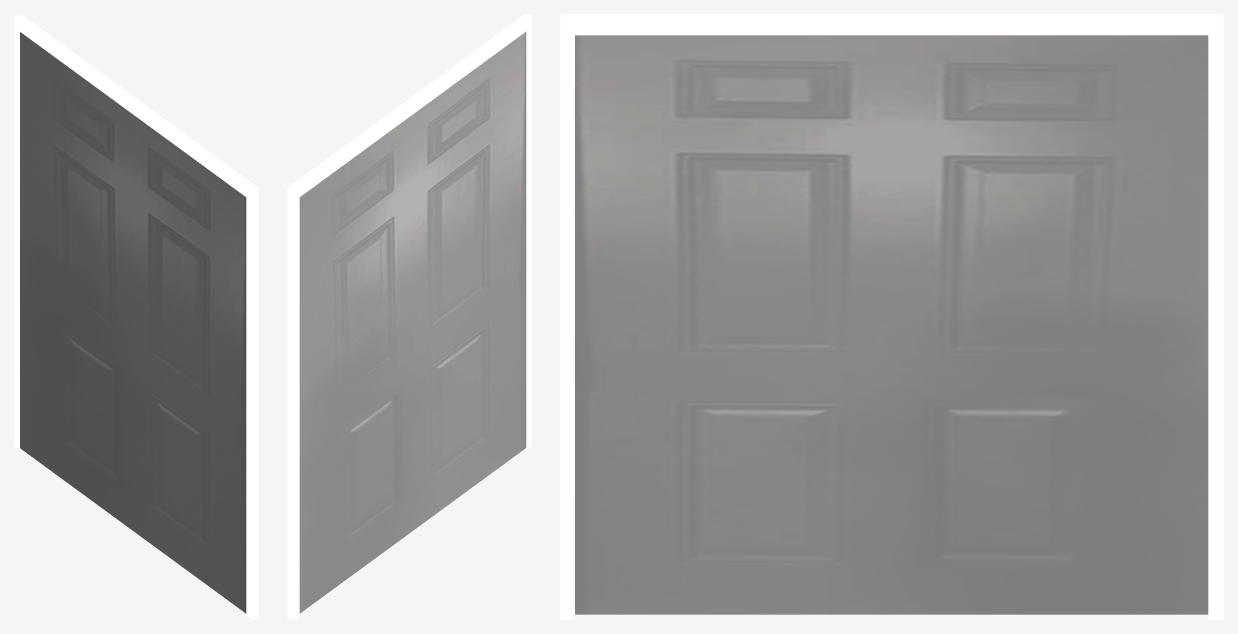
The model's file is Asoliddoor1.1a32aa59.gltf.
The picture shows the model from 3 angles, left to right: view 1: azimuth 30°, elevation 25°; view 2: azimuth 150°, elevation 25°; view 3: azimuth 270°, elevation 25°; orthographic projection. The views are drawn at different scales.
Parts seen in each view (by area): view 1: Plane, Cube; view 2: Plane, Cube; view 3: Plane, Cube.
Boxes of the visible parts, bbox=[...] form: Plane: bbox=[20, 32, 246, 613]; Cube: bbox=[14, 14, 258, 619]; Plane: bbox=[299, 32, 526, 613]; Cube: bbox=[287, 14, 531, 619]; Plane: bbox=[575, 35, 1208, 614]; Cube: bbox=[560, 14, 1223, 619].
Size of the model in its own units: 0.1 by 6 by 6.
2 materials, 1 textured.
